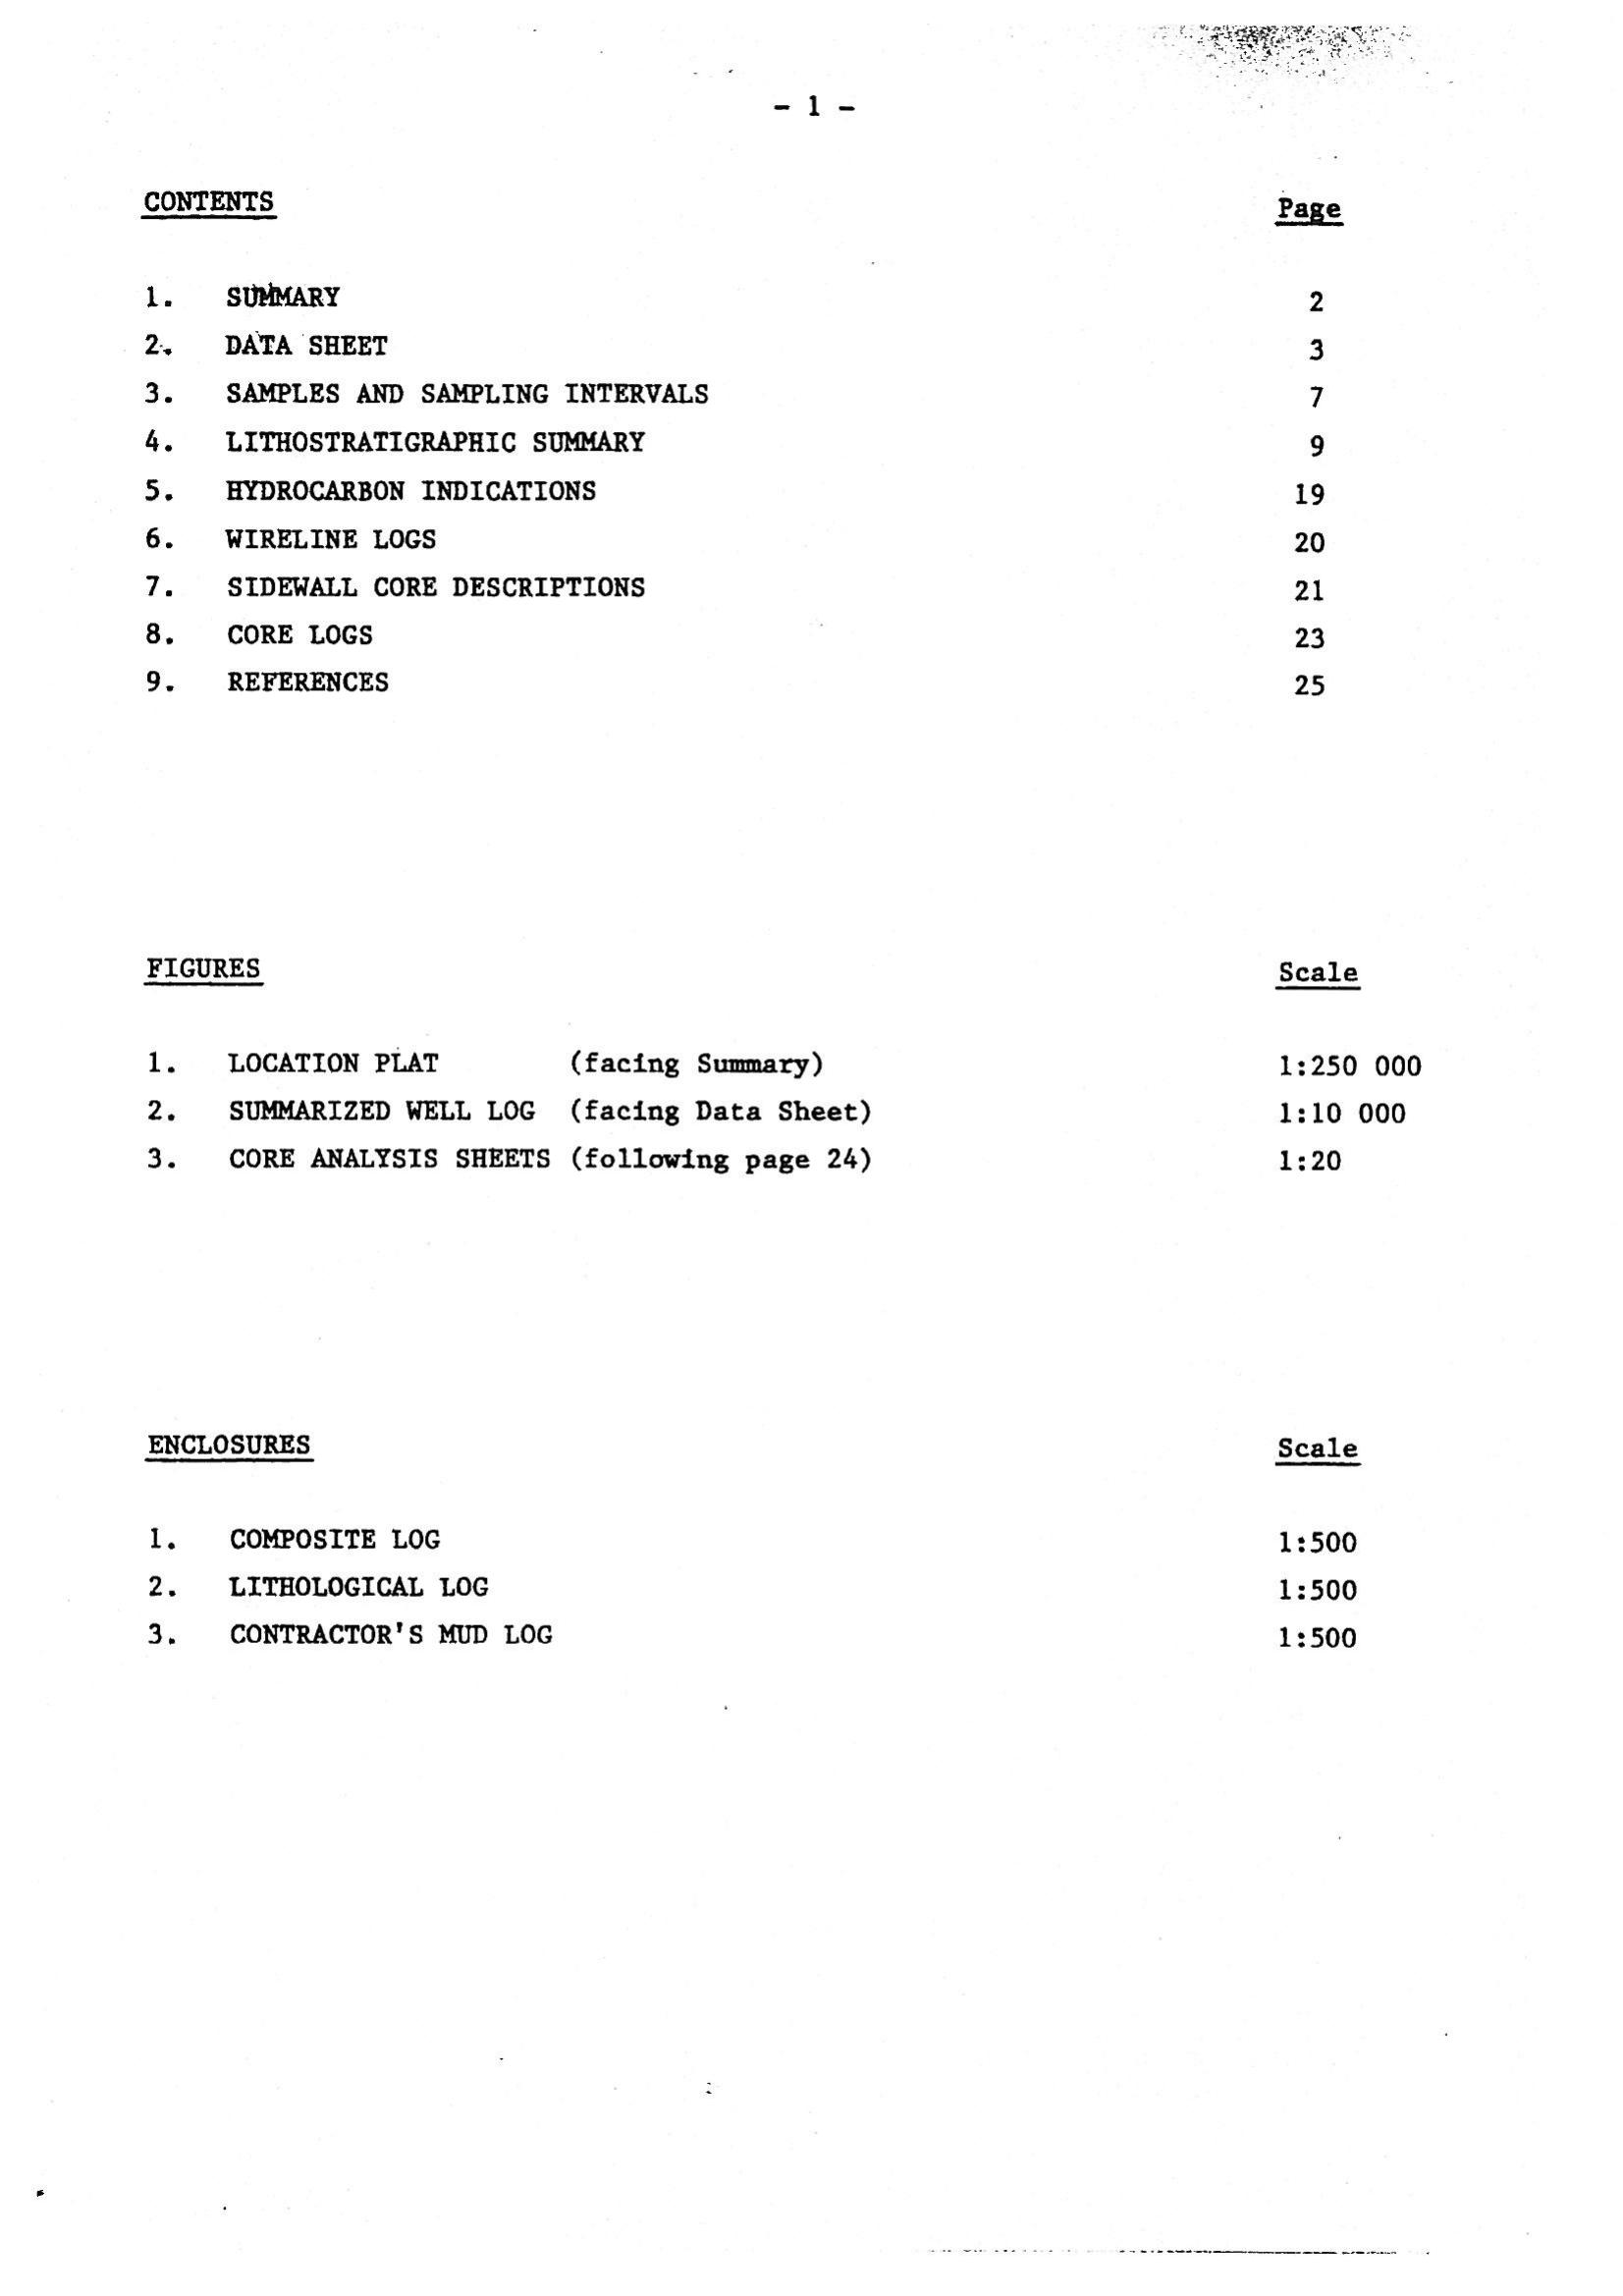text: (114, 165, 1410, 743), (98, 877, 1484, 1260), (90, 1379, 1442, 1727)
